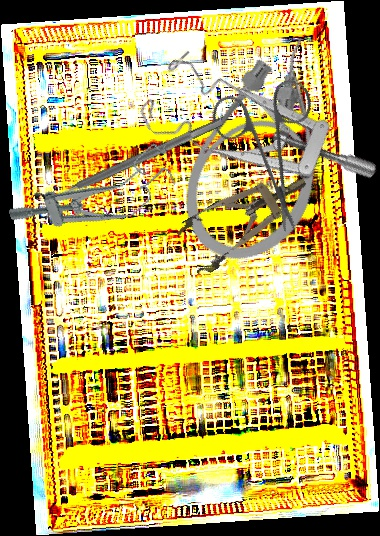Cannula: (160, 19, 373, 283)
Fixation Ring: (32, 107, 229, 222)
Iris Scissors: (178, 52, 362, 236)
Speculum: (127, 15, 380, 263), (3, 139, 185, 256), (170, 157, 321, 279)
